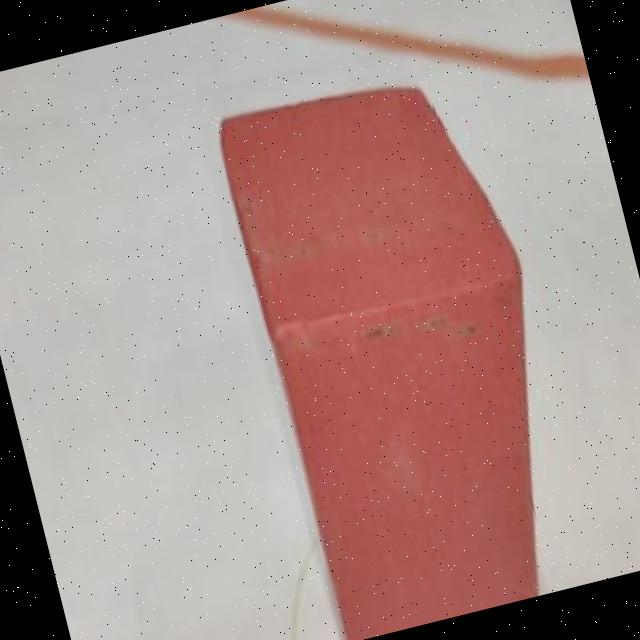redbox: (204, 51, 598, 640)
